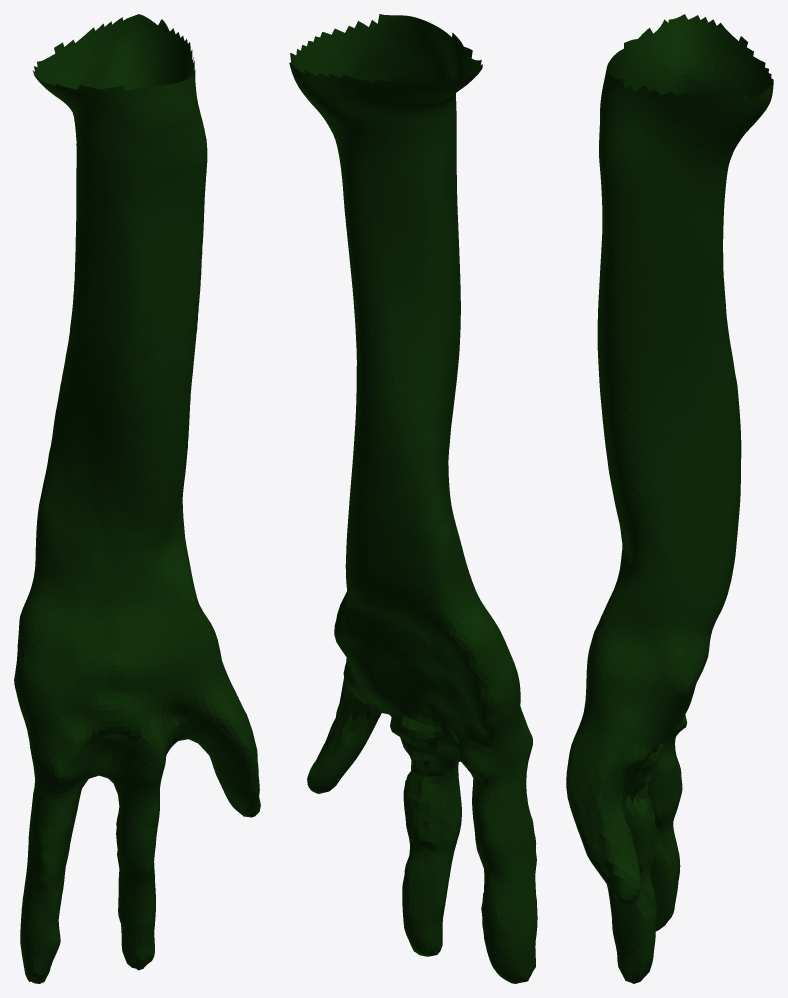
Rendered from lowerA.obj.
3 renders of one model, left to right at view 1: azimuth 30°, elevation 25°; view 2: azimuth 150°, elevation 25°; view 3: azimuth 270°, elevation 25°, orthographic. The views are drawn at different scales.
Parts seen in each view (by area): view 1: alien_12:alien; view 2: alien_12:alien; view 3: alien_12:alien.
Boxes of the visible parts, x1,y1,x2,y2 form: alien_12:alien: (14, 14, 260, 983); alien_12:alien: (289, 14, 537, 983); alien_12:alien: (566, 14, 773, 983).
Bounding box in the file's own units: 0.5404 × 2.04 × 0.4126.
